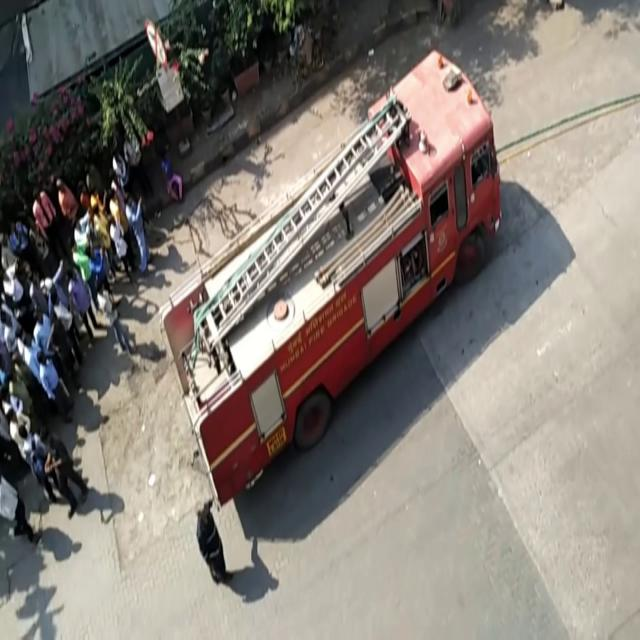emergency: (161, 51, 501, 503)
